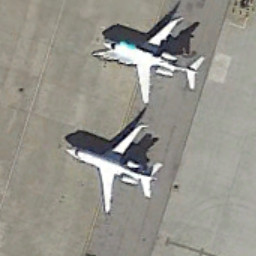Airplane: (86, 10, 209, 116), (54, 119, 165, 221)
